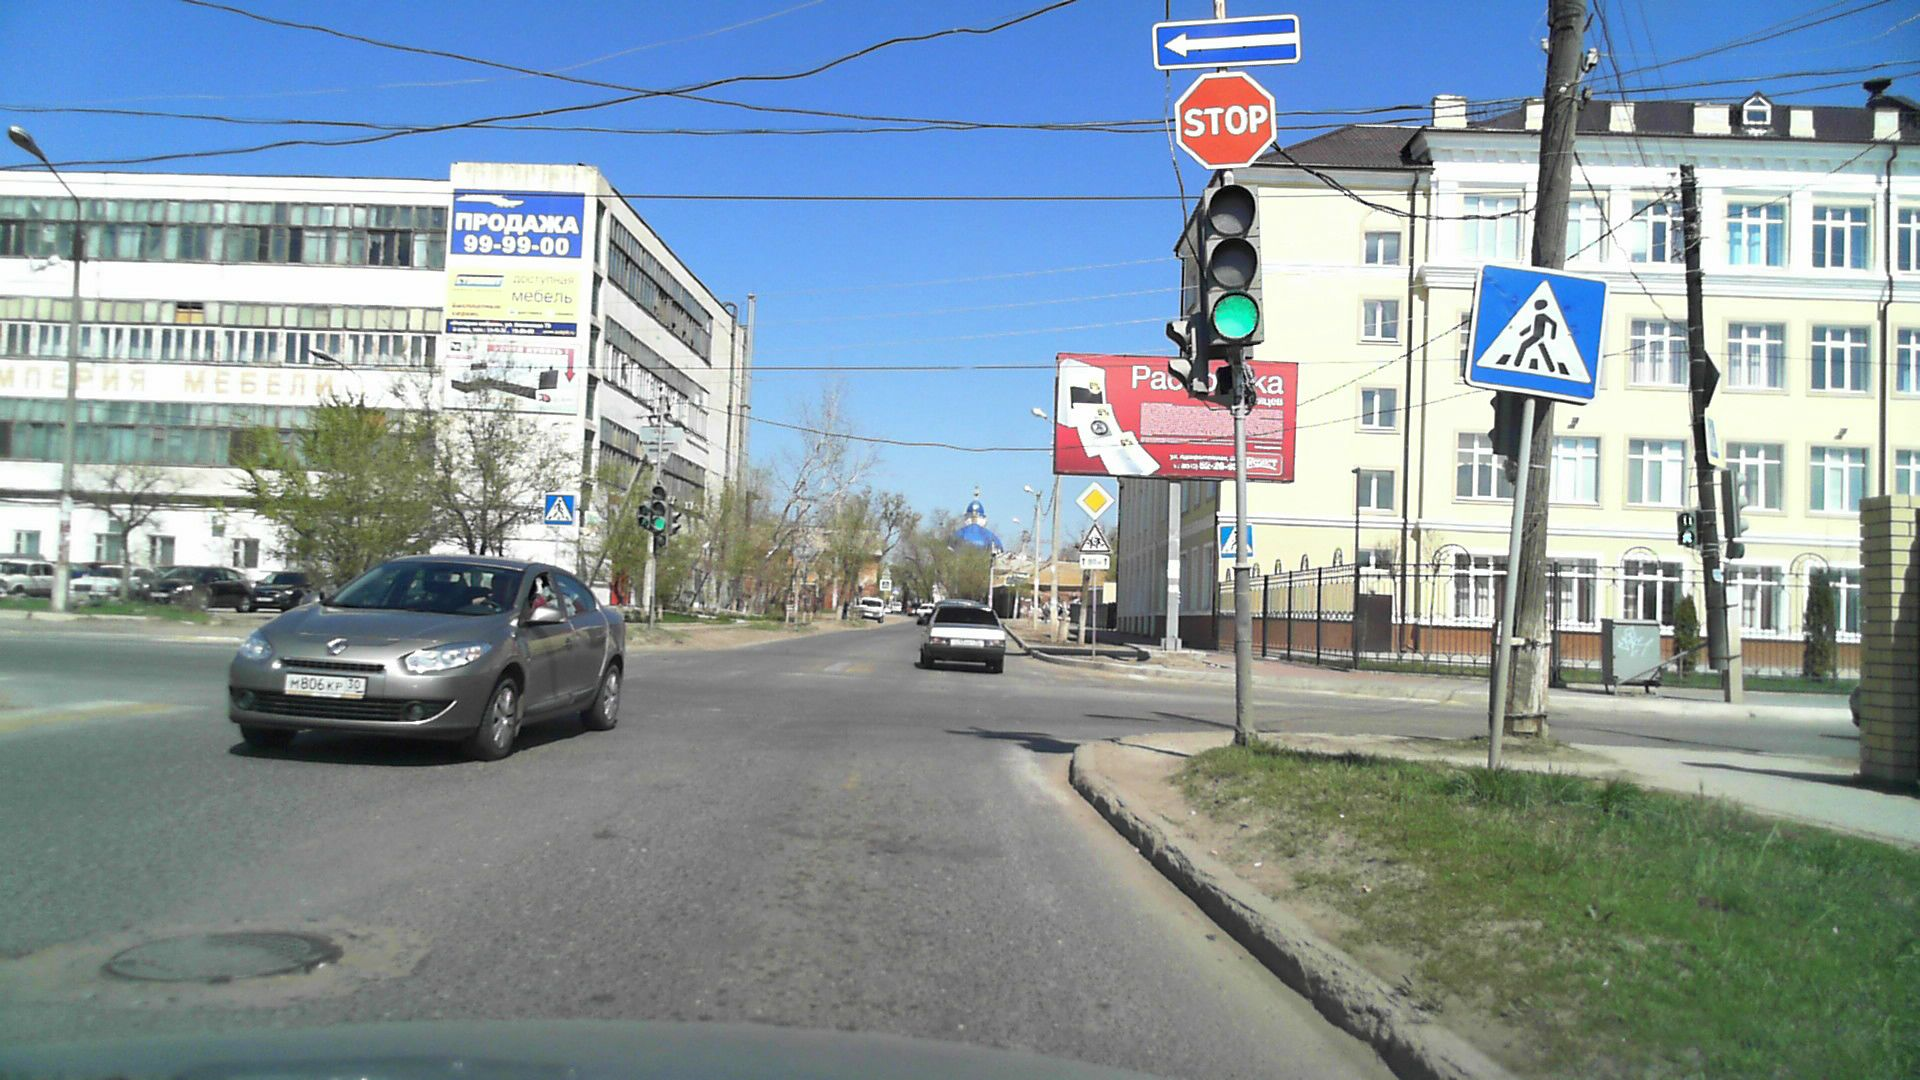One-Way Traffic: (1154, 15, 1300, 70)
Pedestrian Crossing: (1474, 265, 1597, 393), (545, 495, 575, 524)
